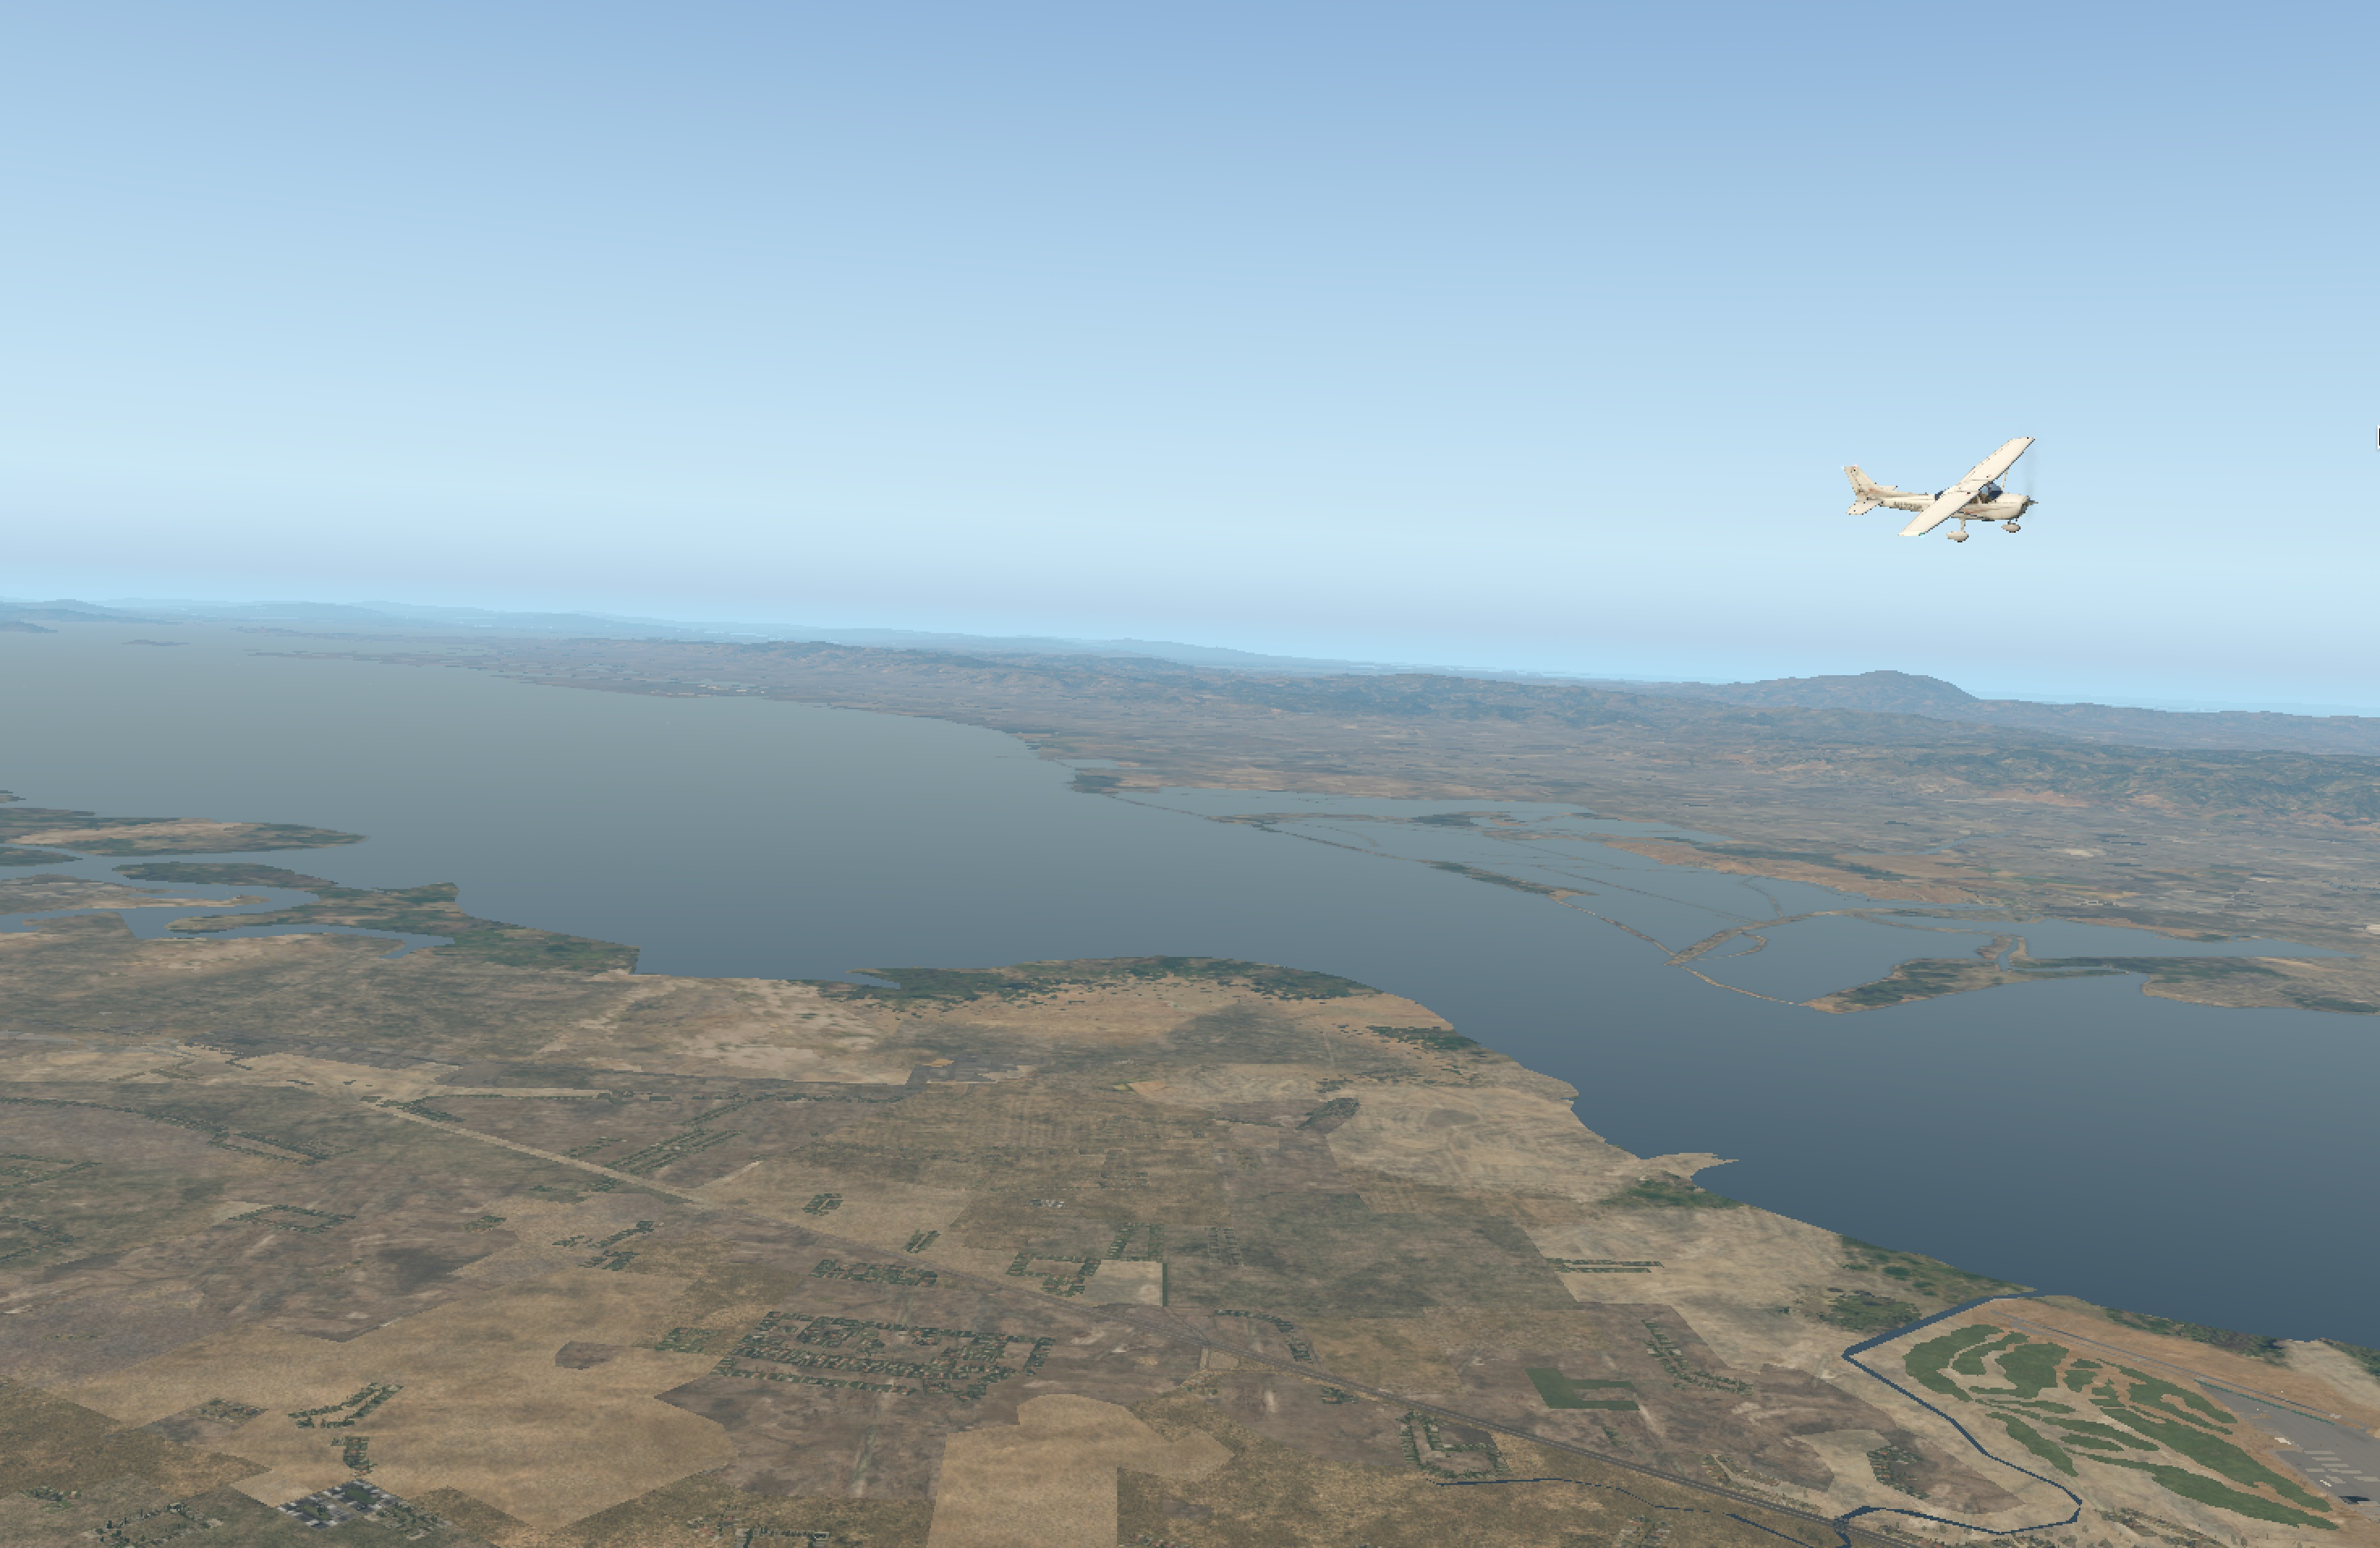aircraft: (1889, 467, 2066, 534)
